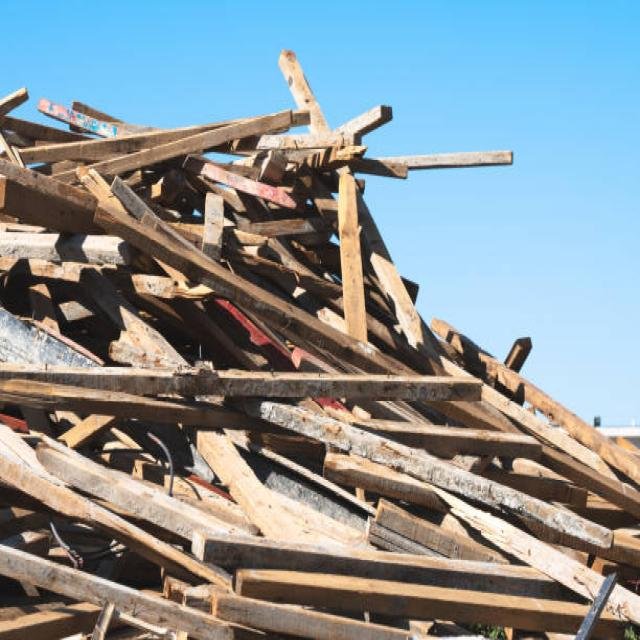cardboard: (11, 91, 584, 552)
